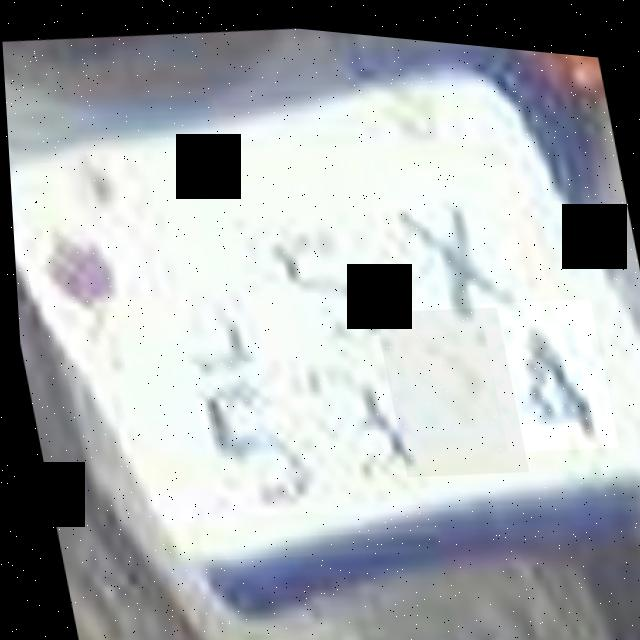4: (475, 279, 615, 451)
5: (158, 340, 355, 536)
8: (288, 316, 453, 505)
D: (371, 288, 525, 479)
X: (364, 145, 534, 339)
